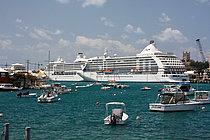Ship: (74, 38, 198, 90)
